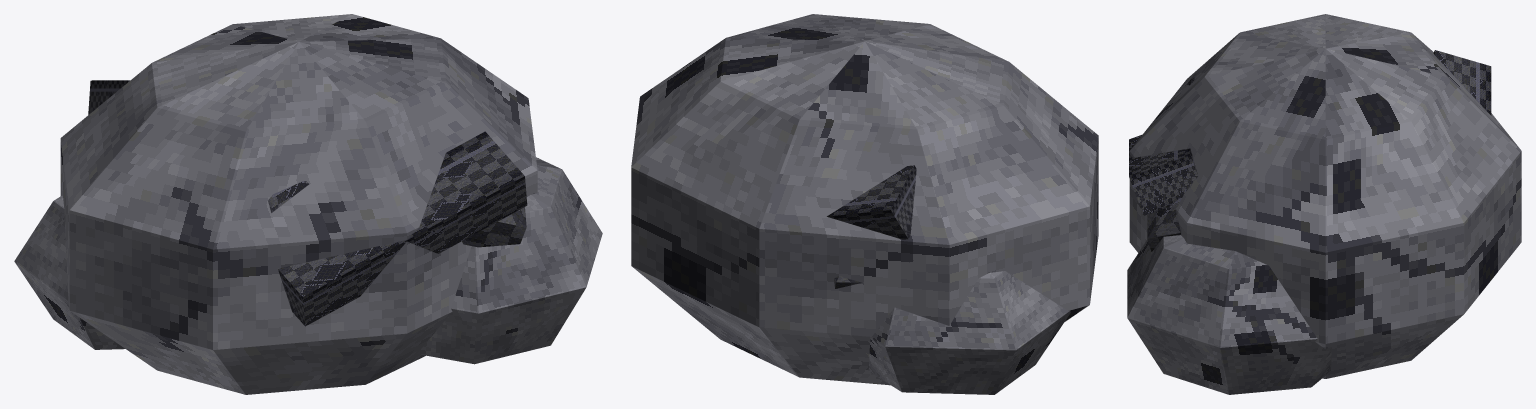
Rendered from carvao.glb.
The picture shows the model from 3 angles, left to right: view 1: azimuth 30°, elevation 25°; view 2: azimuth 150°, elevation 25°; view 3: azimuth 270°, elevation 25°; orthographic projection. The views are drawn at different scales.
Visible parts, largest first — view 1: carvao; view 2: carvao; view 3: carvao.
Boxes of the visible parts, <box> form: carvao: <box>14,14,602,394</box>; carvao: <box>631,14,1098,394</box>; carvao: <box>1127,14,1521,394</box>.
Bounding box in the file's own units: 1.02 × 0.6642 × 0.8026.
1 material, 1 textured.
